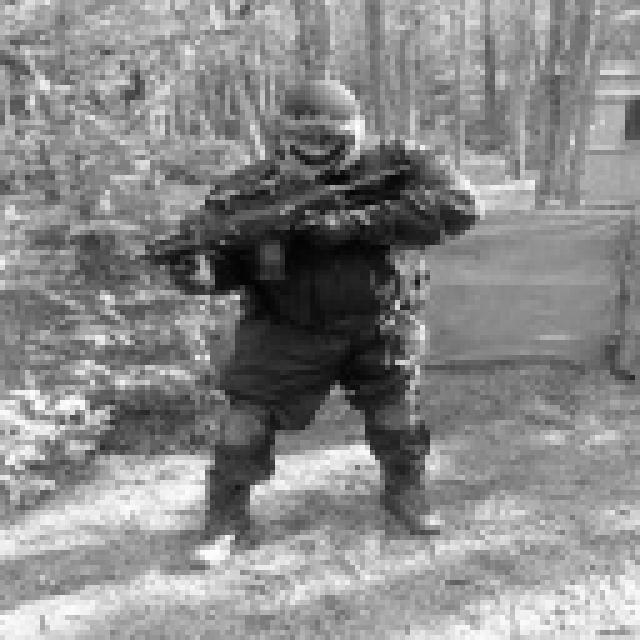Rifle: (116, 111, 436, 301)
